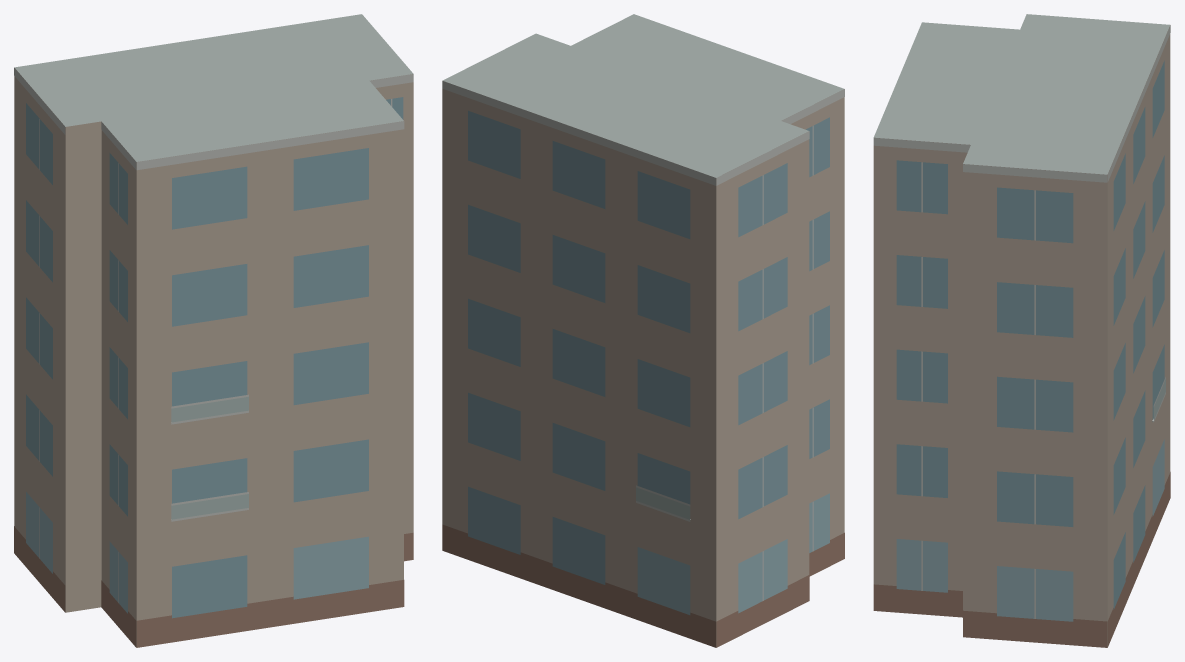
Rendered from survey-upis-32717017.glb.
3 views of the same model, side by side, from view 1: azimuth 30°, elevation 25°; view 2: azimuth 150°, elevation 25°; view 3: azimuth 270°, elevation 25° (orthographic). The views are drawn at different scales.
Parts seen in each view (by area): view 1: survey-upis-32717017.tmp; view 2: survey-upis-32717017.tmp; view 3: survey-upis-32717017.tmp.
Boxes of the visible parts, x1=… form: survey-upis-32717017.tmp: x1=14, y1=14, x2=413, y2=647; survey-upis-32717017.tmp: x1=442, y1=14, x2=844, y2=647; survey-upis-32717017.tmp: x1=873, y1=14, x2=1170, y2=647.
Size of the model in its own units: 10.44 by 14.32 by 8.15.
